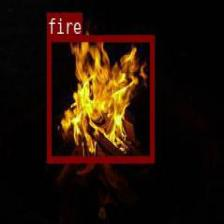fire: (46, 34, 153, 161)
